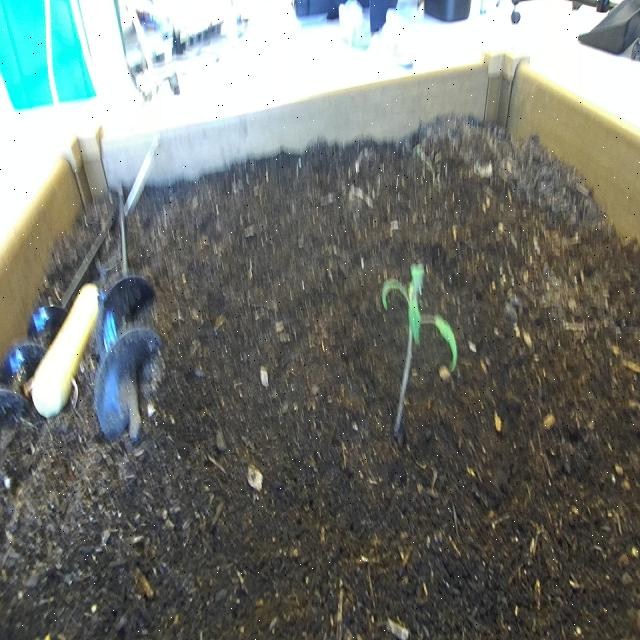Healthy: (377, 250, 464, 442)
